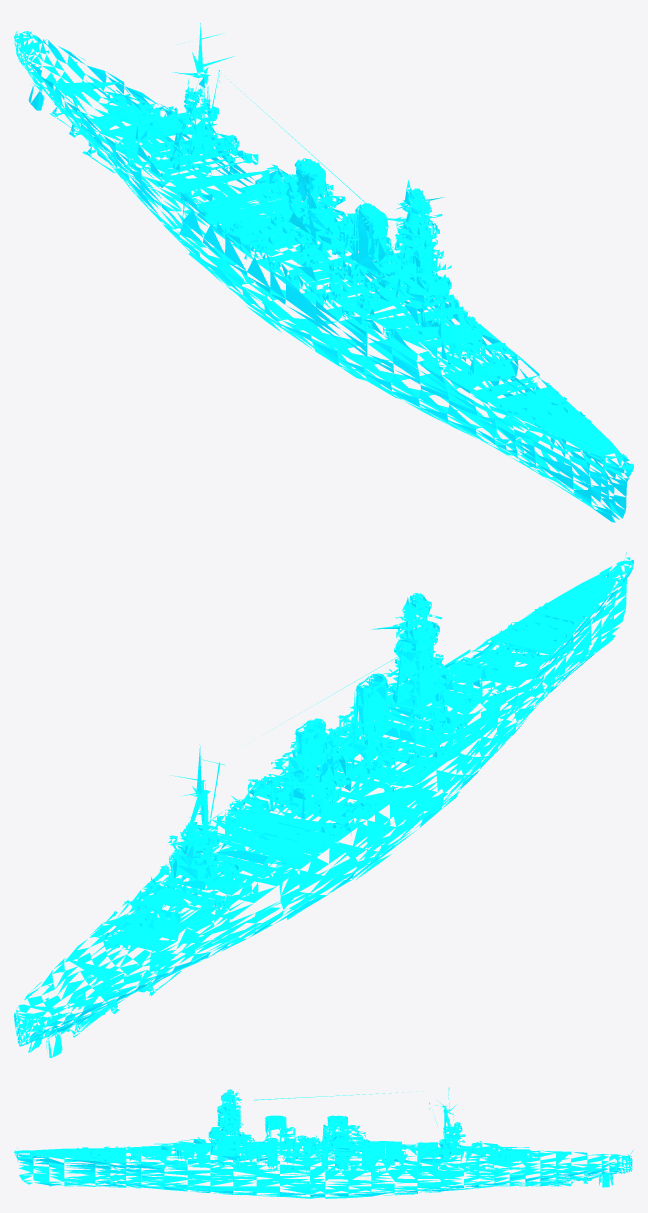
File: PJSB539.glb
3 views of the same model, one above another, from view 1: azimuth 30°, elevation 25°; view 2: azimuth 150°, elevation 25°; view 3: azimuth 270°, elevation 25° (orthographic). The views are drawn at different scales.
Visible parts, largest first — view 1: hull_mid, hull_bow, hull_stern, main_battery, secondary_battery, aa_mount; view 2: hull_mid, hull_bow, hull_stern, main_battery, secondary_battery, aa_mount; view 3: hull_mid, hull_bow, hull_stern, main_battery, secondary_battery, aa_mount.
Part boxes in pixels (bbox=[...]): hull_mid: bbox=[113, 23, 539, 445]; hull_bow: bbox=[470, 375, 633, 522]; hull_stern: bbox=[14, 30, 194, 188]; main_battery: bbox=[85, 79, 535, 396]; secondary_battery: bbox=[139, 133, 469, 339]; aa_mount: bbox=[231, 202, 477, 339]; hull_mid: bbox=[113, 596, 539, 974]; hull_bow: bbox=[471, 552, 633, 720]; hull_stern: bbox=[14, 911, 195, 1057]; main_battery: bbox=[86, 630, 535, 962]; secondary_battery: bbox=[144, 708, 469, 913]; aa_mount: bbox=[231, 694, 477, 829]; hull_mid: bbox=[141, 1087, 501, 1198]; hull_bow: bbox=[14, 1146, 147, 1188]; hull_stern: bbox=[490, 1149, 633, 1187]; main_battery: bbox=[114, 1137, 540, 1161]; secondary_battery: bbox=[208, 1132, 470, 1170]; aa_mount: bbox=[199, 1135, 367, 1165].
Size of the model in its own units: 2.18 by 3.51 by 19.72.
